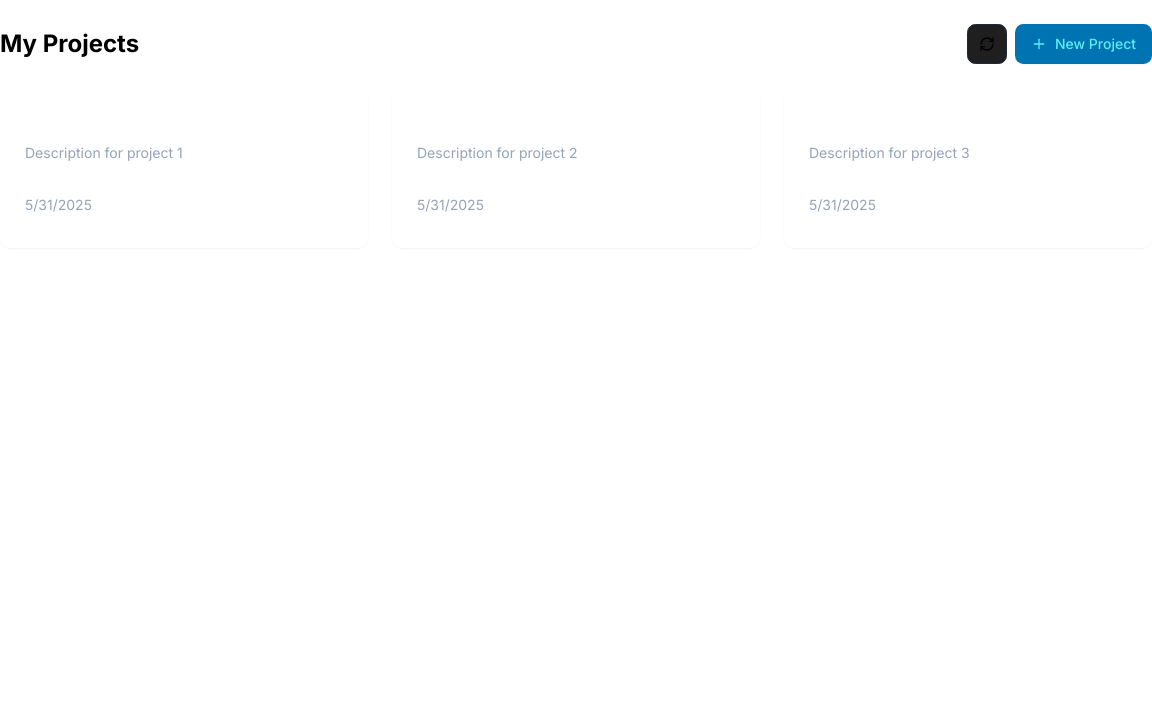
Test: DashboardPage › should open new project dialog when button is clicked
# Click on New Project button
Click the button "New Project" at (1083, 44), box left=1015, top=24, right=1151, bottom=64
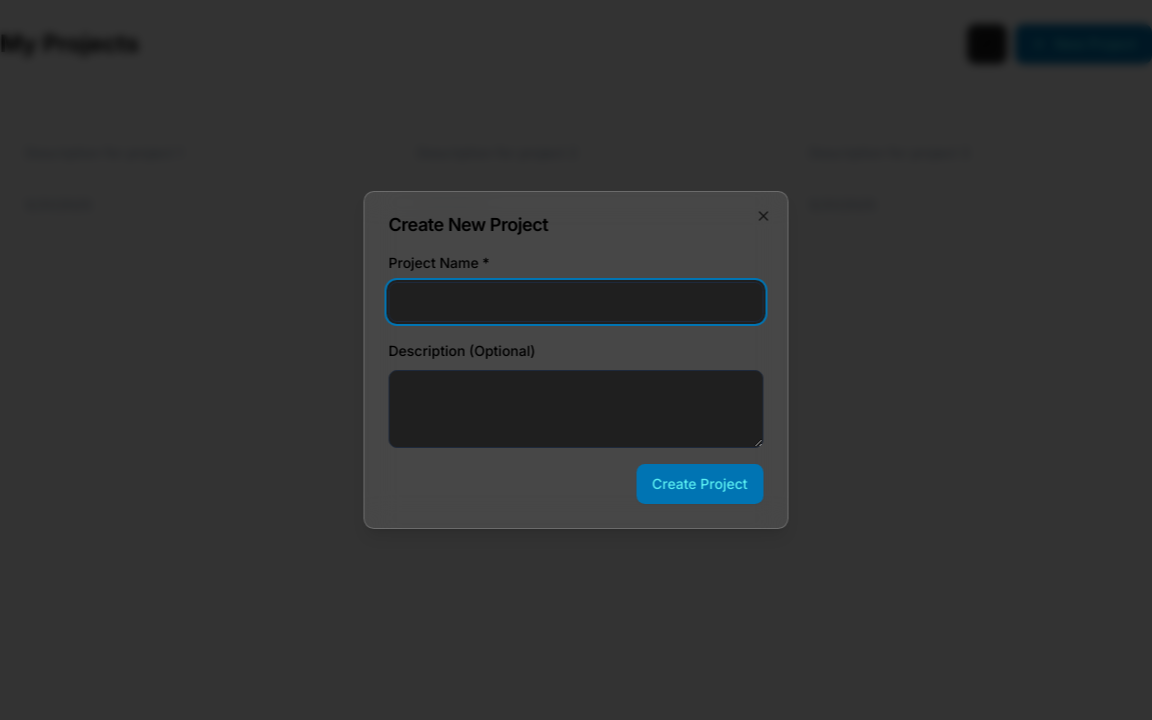
Expected: the heading "Create New Project" is shown, left=388, top=214, right=548, bottom=235
Expected: the field labelled "Project Name *" is shown, left=388, top=282, right=764, bottom=322
